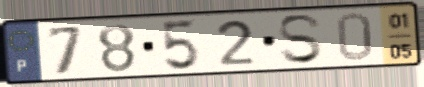0: (334, 10, 376, 64)
2: (215, 18, 258, 68)
5: (159, 18, 202, 72)
7: (46, 24, 87, 76)
8: (94, 21, 138, 76)
S: (276, 12, 327, 66)
